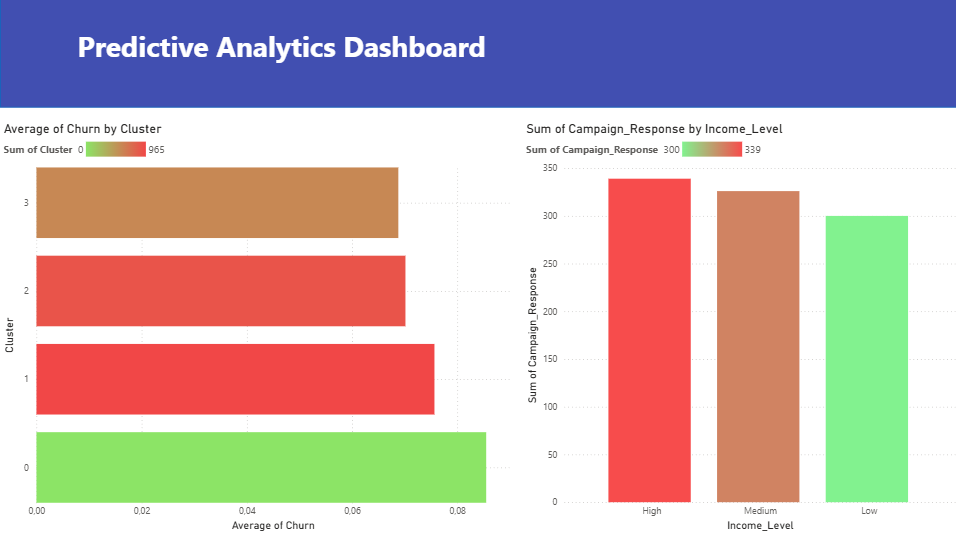

What the dashboard file says about the page in this screenshot:
{"tool":"powerbi","page":{"name":"Predictive Analytics Dashboard","canvas":[1280,720],"ordinal":2},"visuals":[{"type":"shape","box":[0,0,1280,150],"z":0},{"type":"clusteredBarChart","fields":{"Category":["marketing_campaign_with_features.Cluster"],"Y":["Avg(marketing_campaign_with_features.Churn)"]},"box":[0,168.6,697.1,551.4],"z":1000},{"type":"clusteredColumnChart","fields":{"Y":["Sum(marketing_campaign_with_features.Campaign_Response)"],"Category":["marketing_campaign_with_features.Income_Level"]},"box":[696.7,168.3,583.3,551.7],"z":2000},{"type":"textbox","box":[98.3,38.3,908.3,93.3],"z":3000}]}

Visuals, with their boxes in screenshot pixels (x1, y1, x2, y2), scaled from the page's 1280x720 canvas onto the 956x533 screenshot:
shape: [0, 0, 955, 111]
clusteredBarChart - marketing_campaign_with_features.Cluster x Avg(marketing_campaign_with_features.Churn): [0, 125, 521, 532]
clusteredColumnChart - Sum(marketing_campaign_with_features.Campaign_Response) x marketing_campaign_with_features.Income_Level: [520, 125, 955, 532]
textbox: [73, 28, 752, 97]
